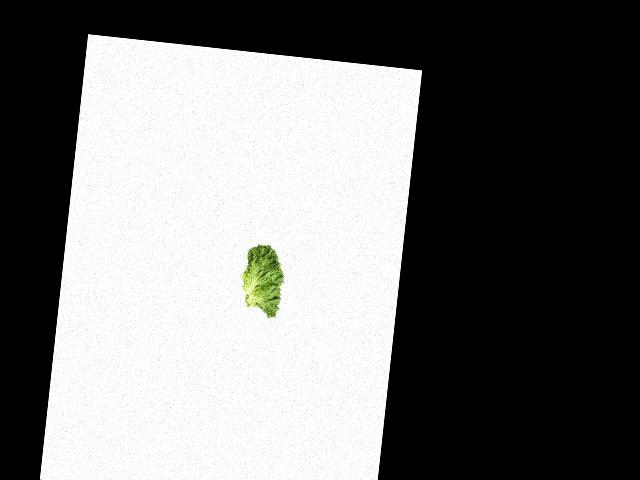lettuce: (235, 241, 293, 319)
